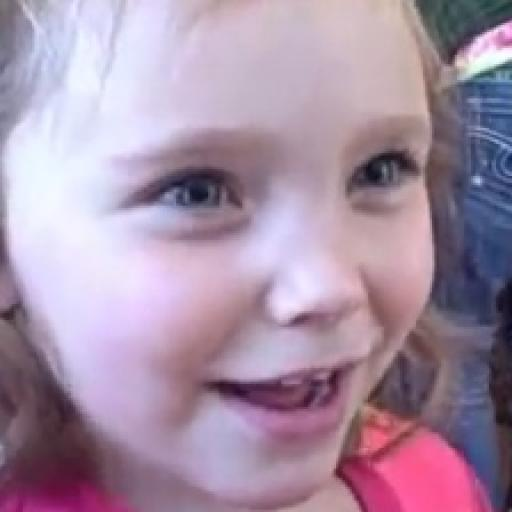Autism: (23, 13, 512, 512)
